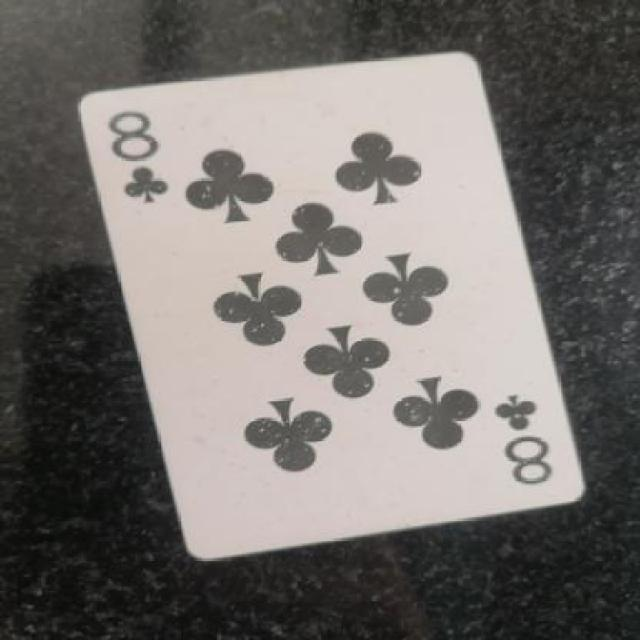8C: (470, 378, 585, 490), (102, 104, 182, 213)
